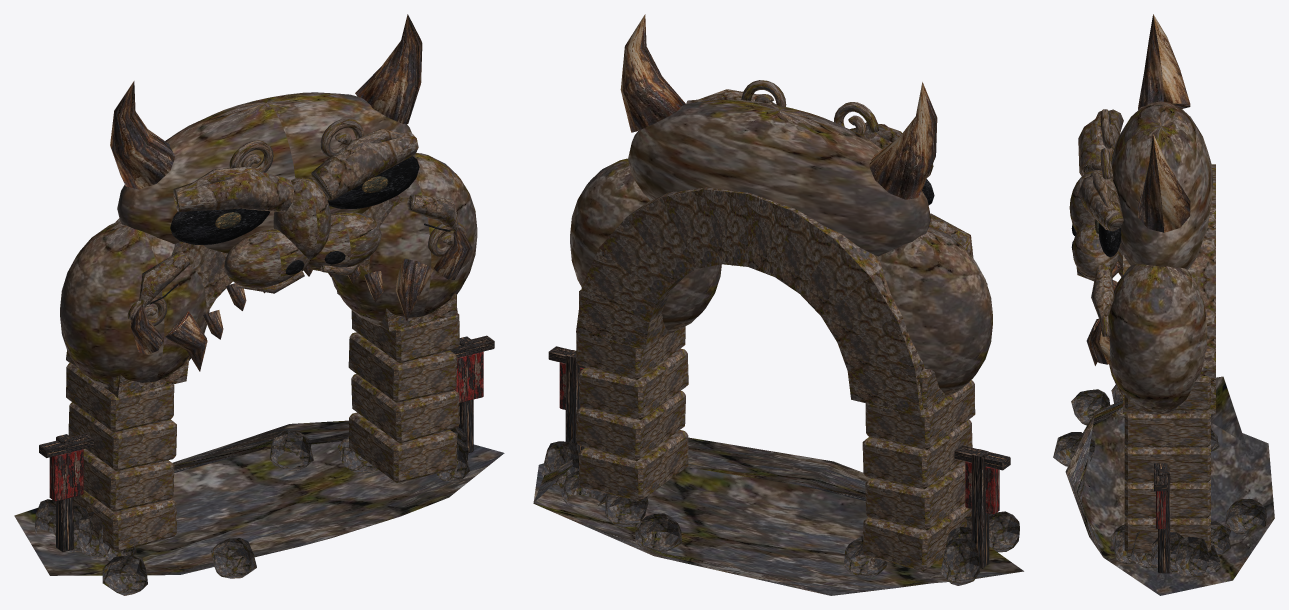
File: nyanisyarud-oni-gate.glb
3 renders of one model, left to right at view 1: azimuth 30°, elevation 25°; view 2: azimuth 150°, elevation 25°; view 3: azimuth 270°, elevation 25°, orthographic. The views are drawn at different scales.
Visible parts, largest first — view 1: 02 Oni Face Gate; view 2: 02 Oni Face Gate; view 3: 02 Oni Face Gate.
Boxes of the visible parts, <box> form: 02 Oni Face Gate: <box>14,14,504,595</box>; 02 Oni Face Gate: <box>533,14,1023,595</box>; 02 Oni Face Gate: <box>1053,14,1274,595</box>.
Size of the model in its own units: 7 by 6.91 by 3.21.
7 materials, 7 textured.
